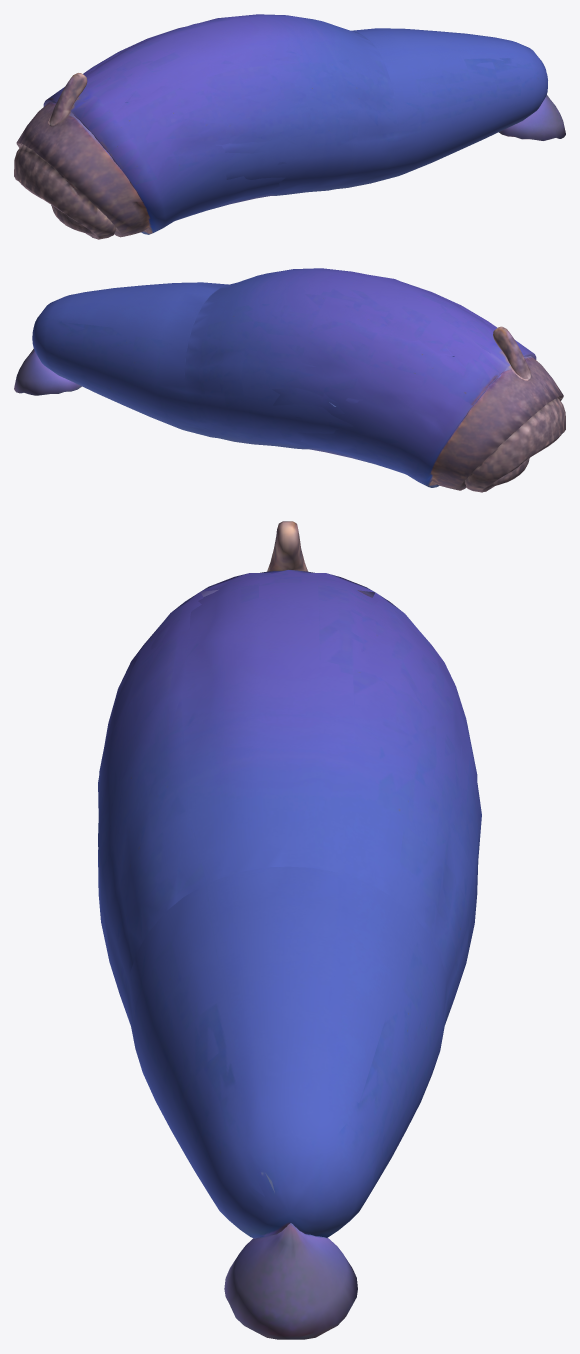
Rendered from s09_machinery_raw.glb.
The picture shows the model from 3 angles, top to bottom: view 1: azimuth 30°, elevation 25°; view 2: azimuth 150°, elevation 25°; view 3: azimuth 270°, elevation 25°; orthographic projection. The views are drawn at different scales.
Parts seen in each view (by area): view 1: tripo_node_b1e382e3-389f-4f29-b14c-4224b6d31241; view 2: tripo_node_b1e382e3-389f-4f29-b14c-4224b6d31241; view 3: tripo_node_b1e382e3-389f-4f29-b14c-4224b6d31241.
Boxes of the visible parts, x1,y1,x2,y2 form: tripo_node_b1e382e3-389f-4f29-b14c-4224b6d31241: [14, 14, 565, 239]; tripo_node_b1e382e3-389f-4f29-b14c-4224b6d31241: [14, 268, 565, 492]; tripo_node_b1e382e3-389f-4f29-b14c-4224b6d31241: [98, 521, 481, 1339].
Size of the model in its own units: 0.9995 by 0.3267 by 0.3101.
Materials: 1 (1 with a texture image).
